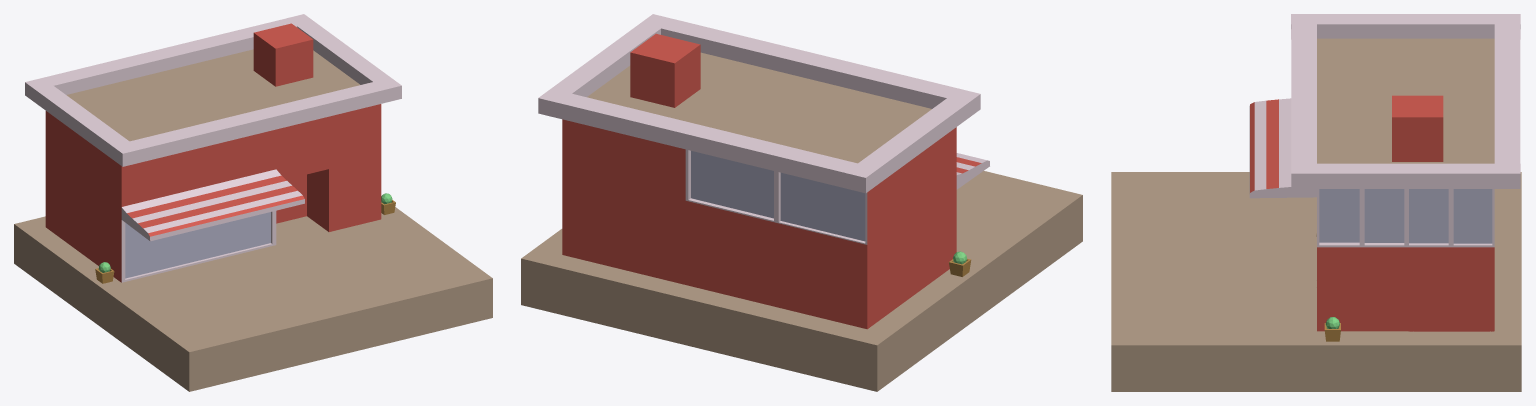
Rendered from building_coffee_red.fbx.
3 renders of one model, left to right at view 1: azimuth 30°, elevation 25°; view 2: azimuth 150°, elevation 25°; view 3: azimuth 270°, elevation 25°, orthographic. The views are drawn at different scales.
Parts seen in each view (by area): view 1: Cube.001; view 2: Cube.001; view 3: Cube.001.
Part boxes in pixels (x1=…): Cube.001: x1=14, y1=14, x2=492, y2=391; Cube.001: x1=521, y1=14, x2=1082, y2=391; Cube.001: x1=1111, y1=14, x2=1521, y2=391.
Size of the model in its own units: 1600 by 1034 by 1600.
